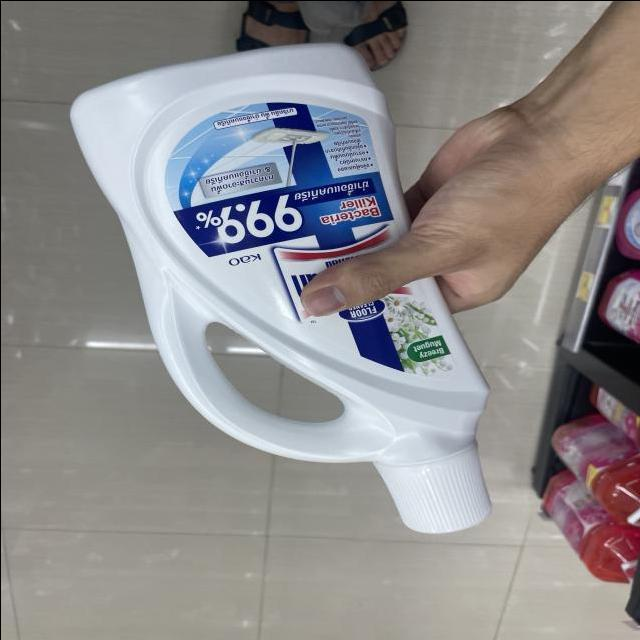HDPE Plastic: (70, 47, 504, 513)
